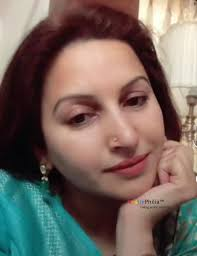n.sharp: (104, 106, 141, 150)
